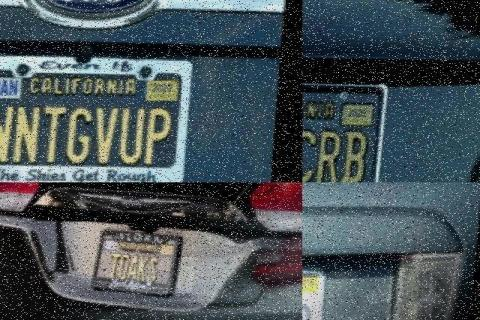LicensePlate: (0, 43, 206, 182), (302, 71, 422, 183), (95, 223, 184, 295), (302, 264, 394, 320)
